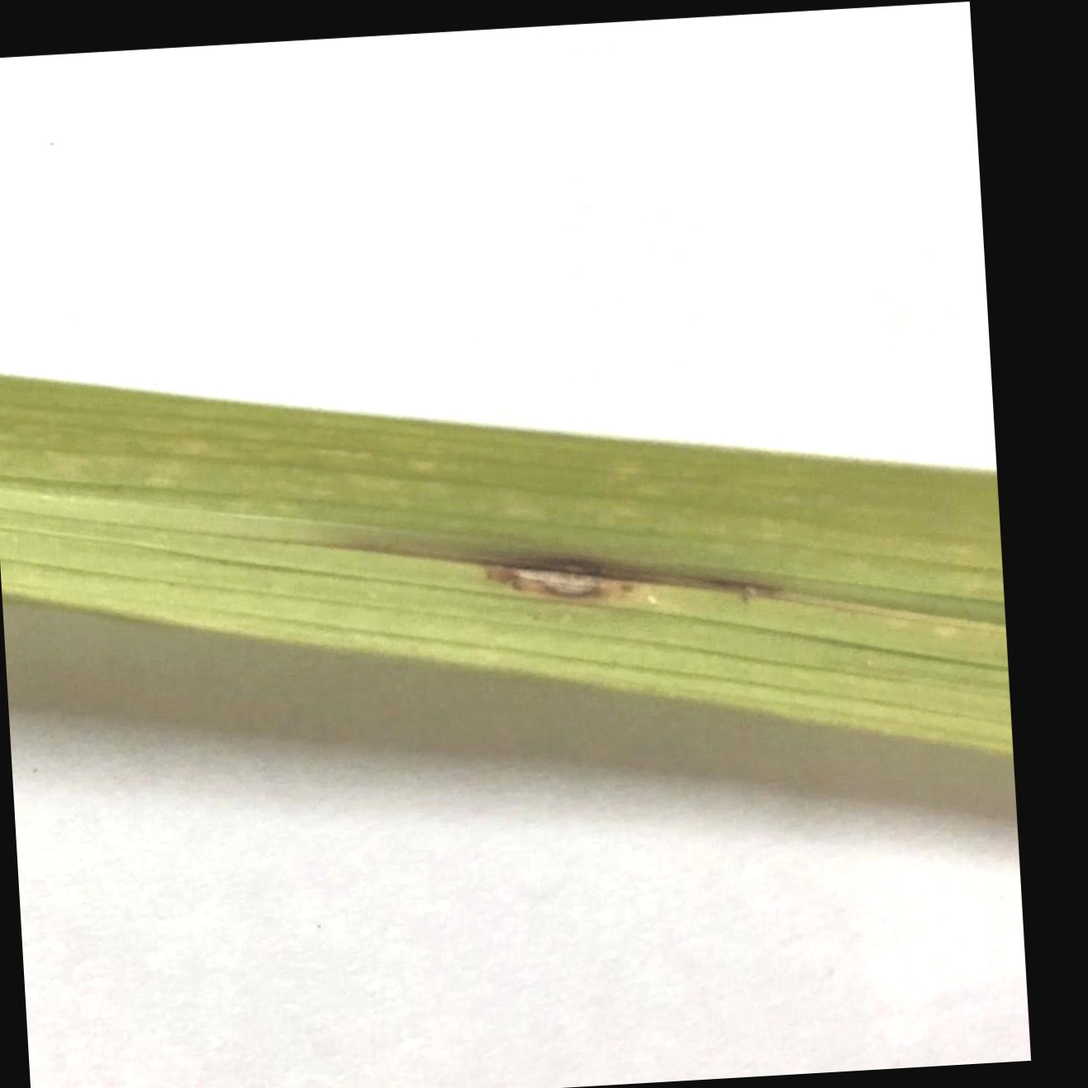Brown_Spot: (421, 438, 700, 652)
